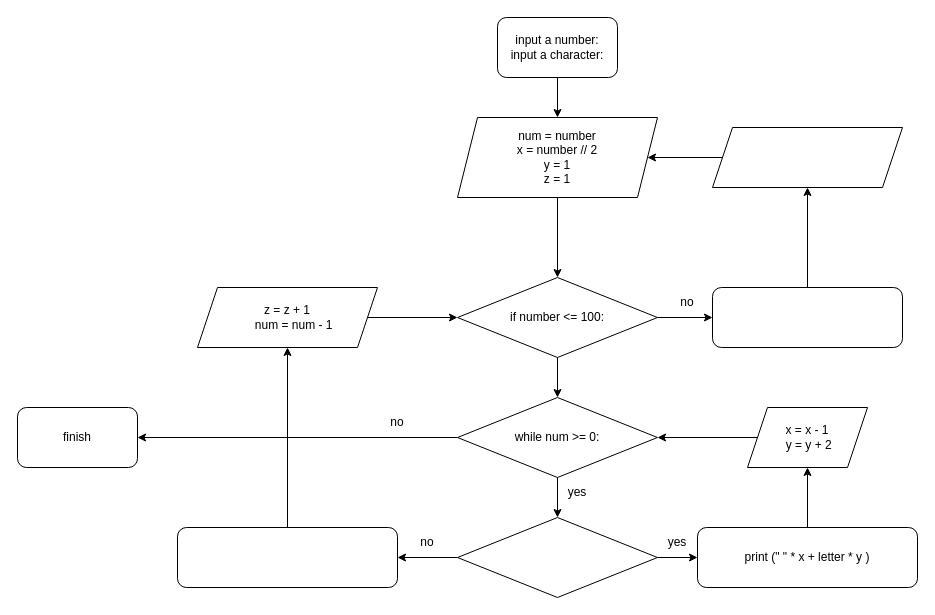
This 935x615 diagram has some shape labels left out. Each missing label, with the centre of its shape:
" your number is biger than 100, tray again": pixel 807 317
if num > (number // 2 ):: pixel 557 557
please input a curect number: pixel 807 157
print (" " * z + letter * (num * 2 - 1 ) ): pixel 287 557
